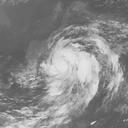cyclone: (33, 20, 124, 116)
